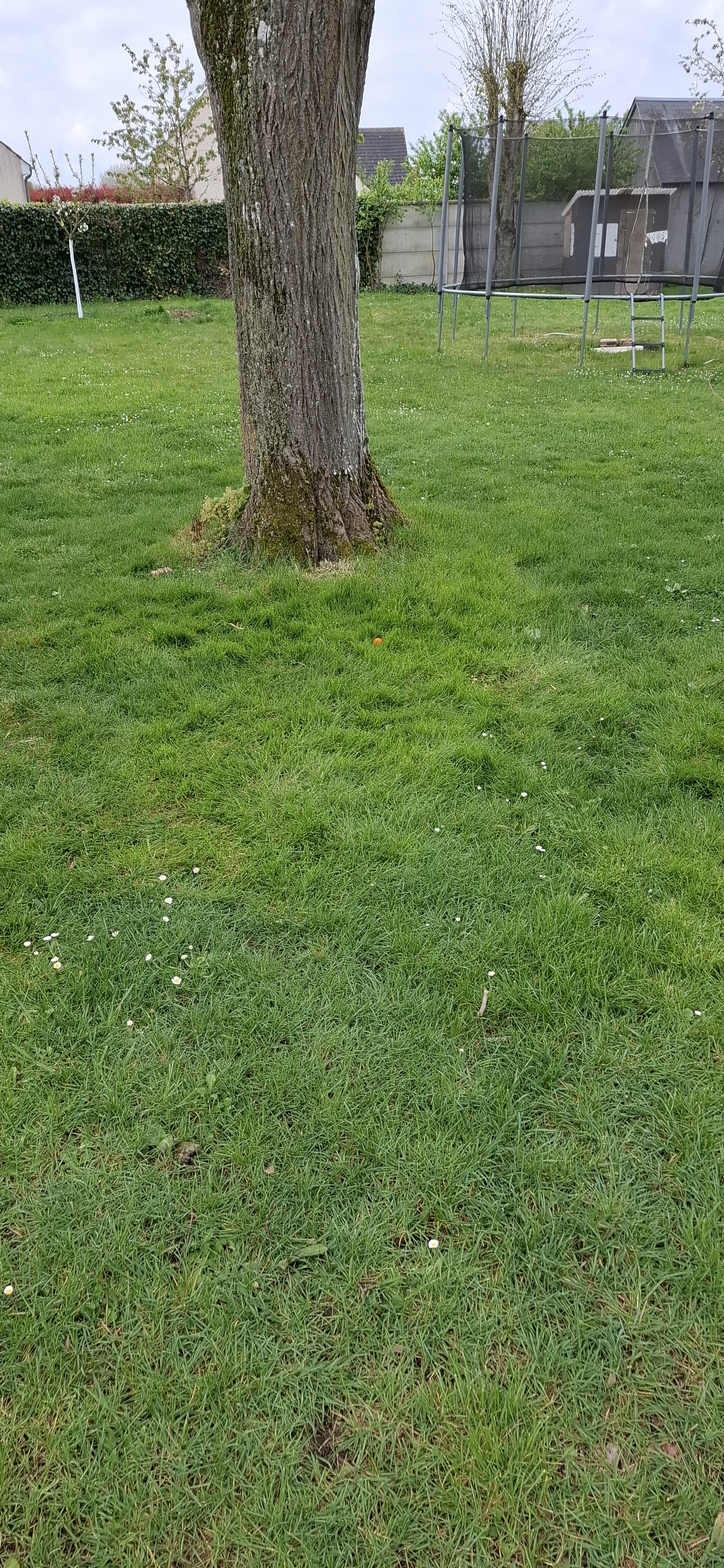ball: (294, 739, 298, 758)
